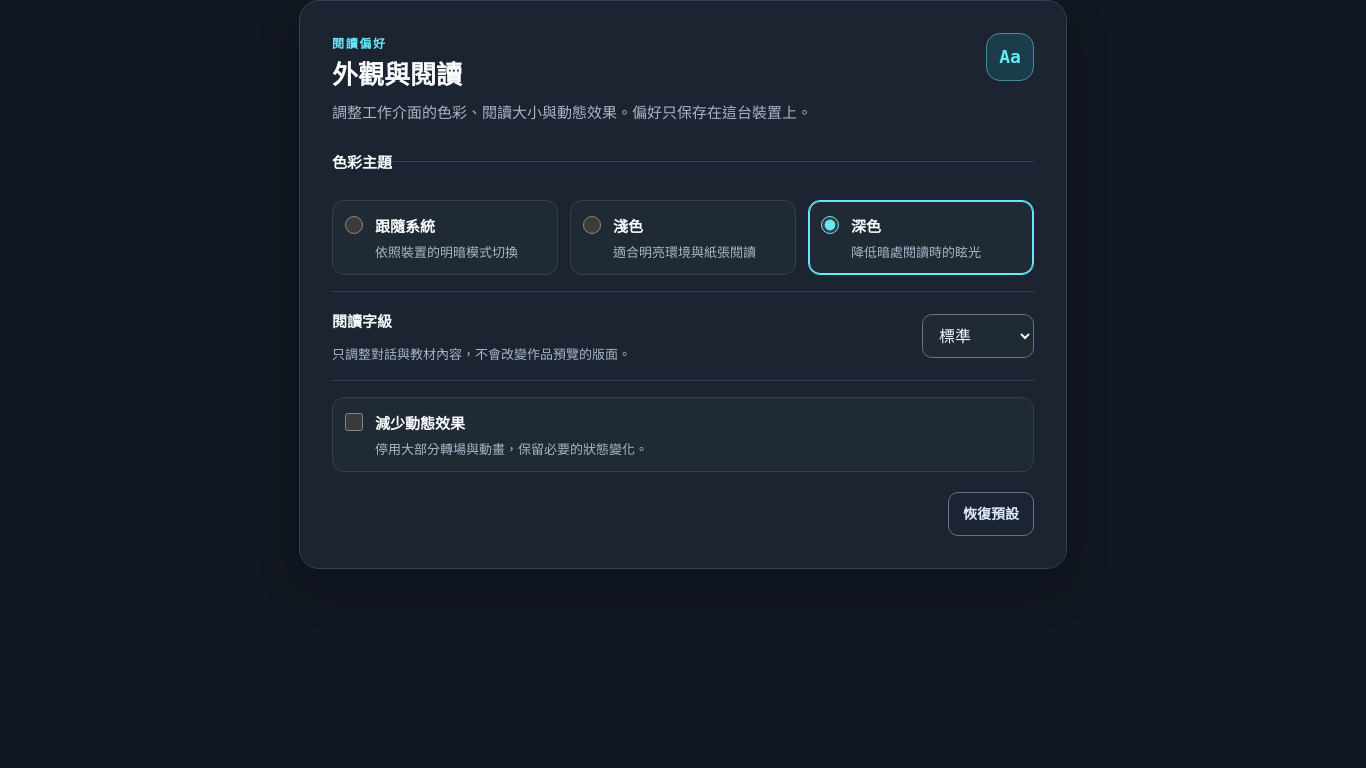
Test case: AppearanceSettings › applies and persists changes from the uncontrolled settings surface
Step 1. Click the radio button with test id "appearance-theme-light" → (592, 225), box [583,216,601,234]
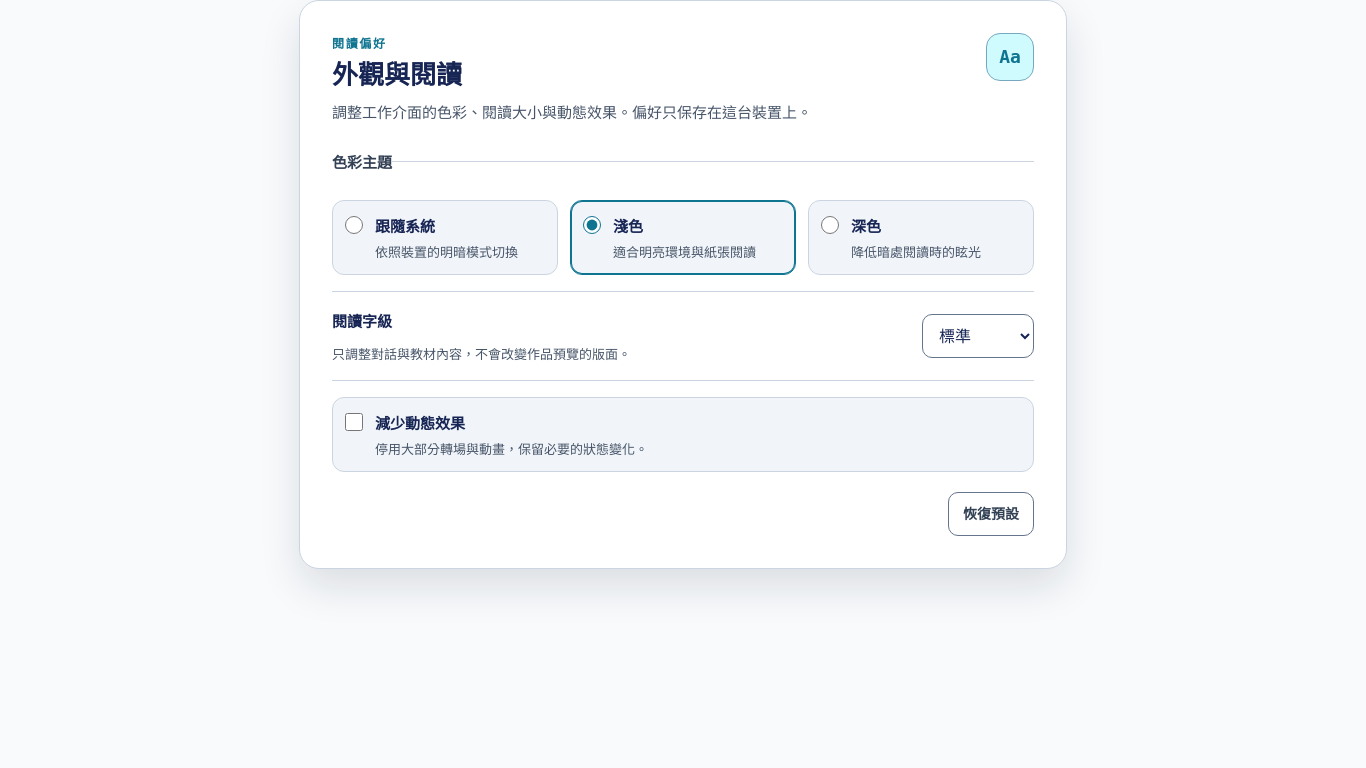
Step 2. Select "放大" in the dropdown with test id "appearance-font-size" → (978, 336), box [922,314,1034,358]
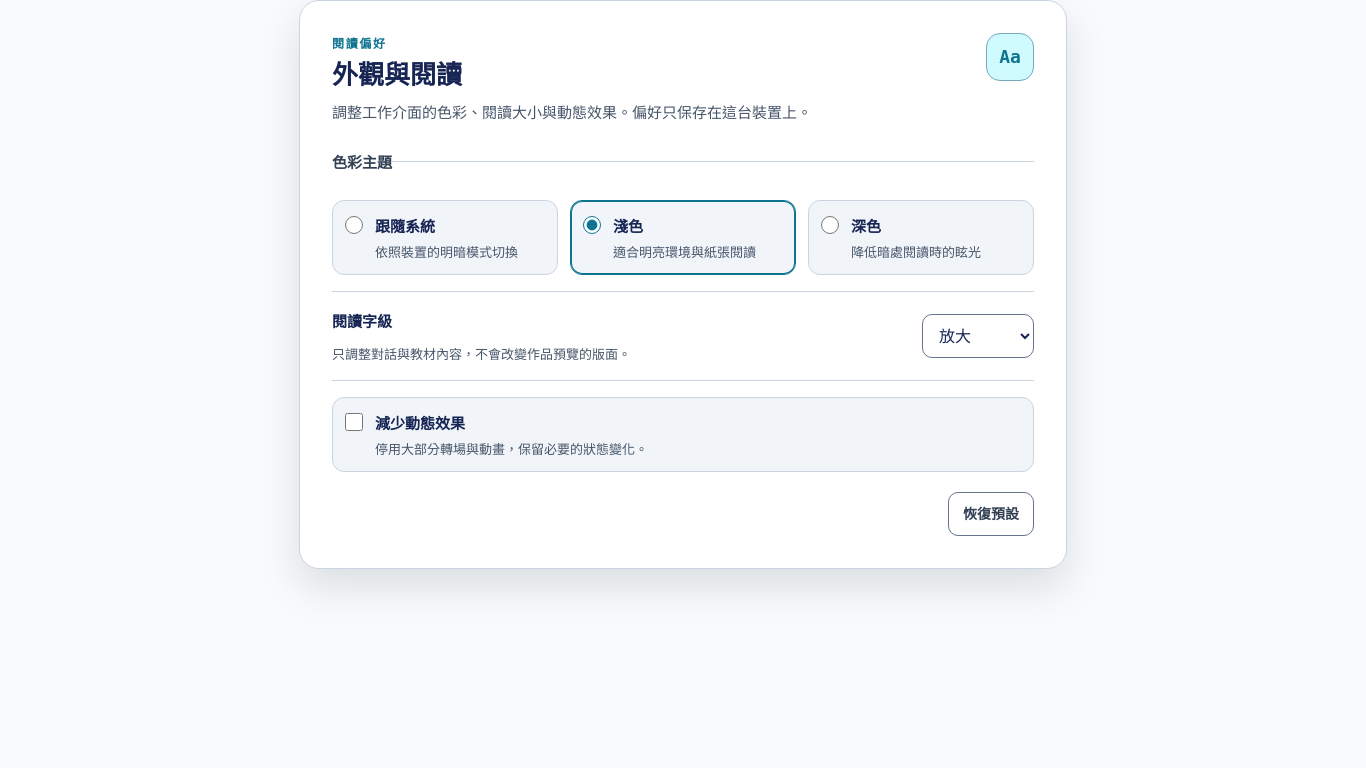
Step 3. Click the checkbox with test id "appearance-reduced-motion" → (354, 422), box [345,412,363,430]
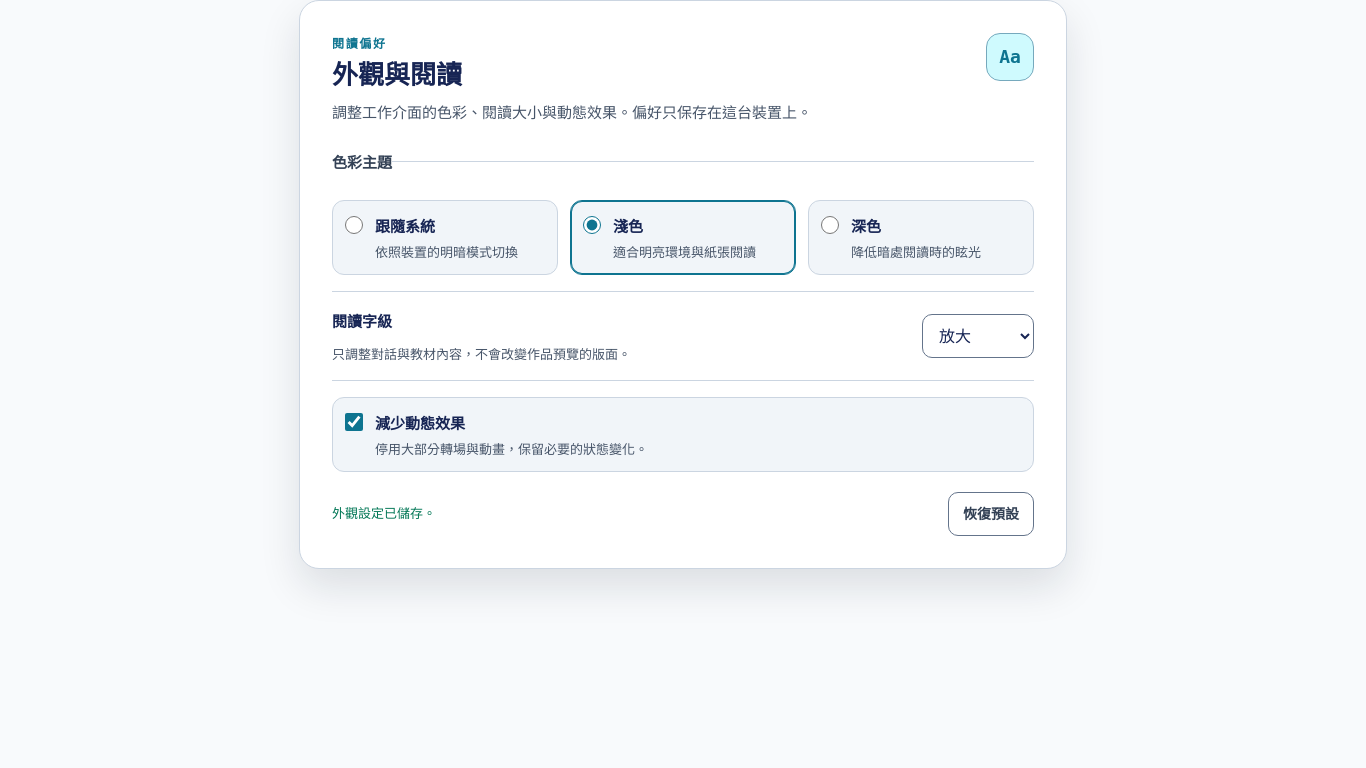
Now the message shows "外觀設定已儲存", box [332,504,436,522]
